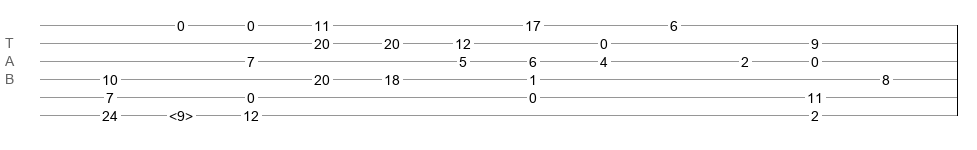0: (177, 18, 185, 28), (247, 18, 255, 28), (247, 90, 255, 100), (529, 90, 537, 100), (600, 36, 608, 46), (811, 54, 819, 64)
1: (529, 72, 537, 82)
10: (102, 72, 118, 82)
11: (314, 18, 330, 28), (807, 90, 823, 100)
12: (243, 108, 259, 118), (455, 36, 471, 46)
17: (525, 18, 541, 28)
18: (384, 72, 400, 82)
2: (741, 54, 749, 64), (811, 108, 819, 118)
20: (314, 36, 330, 46), (314, 72, 330, 82), (384, 36, 400, 46)
24: (102, 108, 118, 118)
4: (600, 54, 608, 64)
5: (459, 54, 467, 64)
6: (529, 54, 537, 64), (670, 18, 678, 28)
7: (106, 90, 114, 100), (247, 54, 255, 64)
8: (882, 72, 890, 82)
9: (811, 36, 819, 46)
harmonic: (169, 108, 193, 118)
